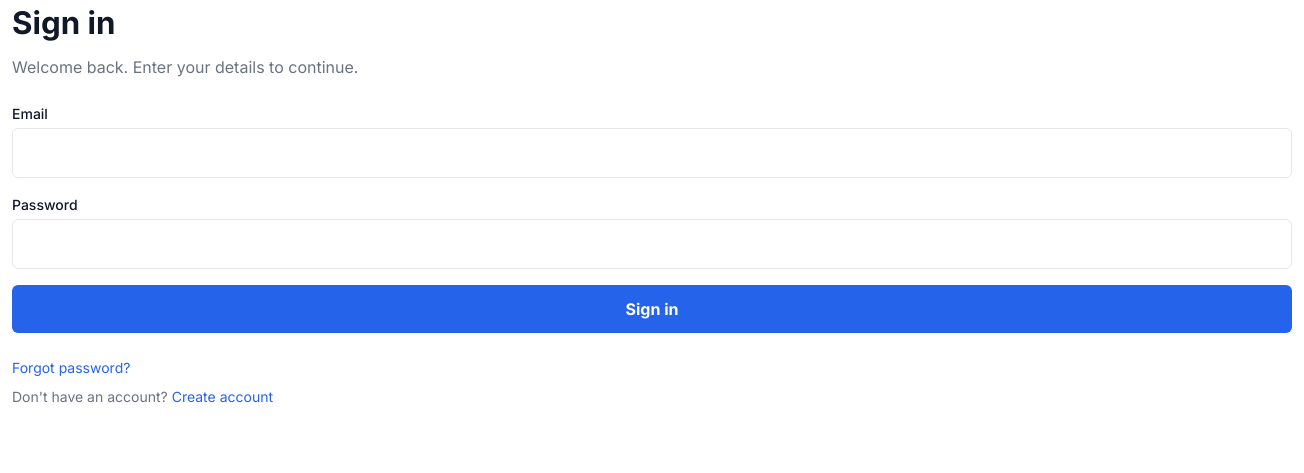
Scenario: SignInForm › shows an inline error and stays on the page for bad credentials
The image size is (1304, 473).
Type "a@b.com" into the field labelled "Email" at (652, 153), box 12,128 -> 1292,178
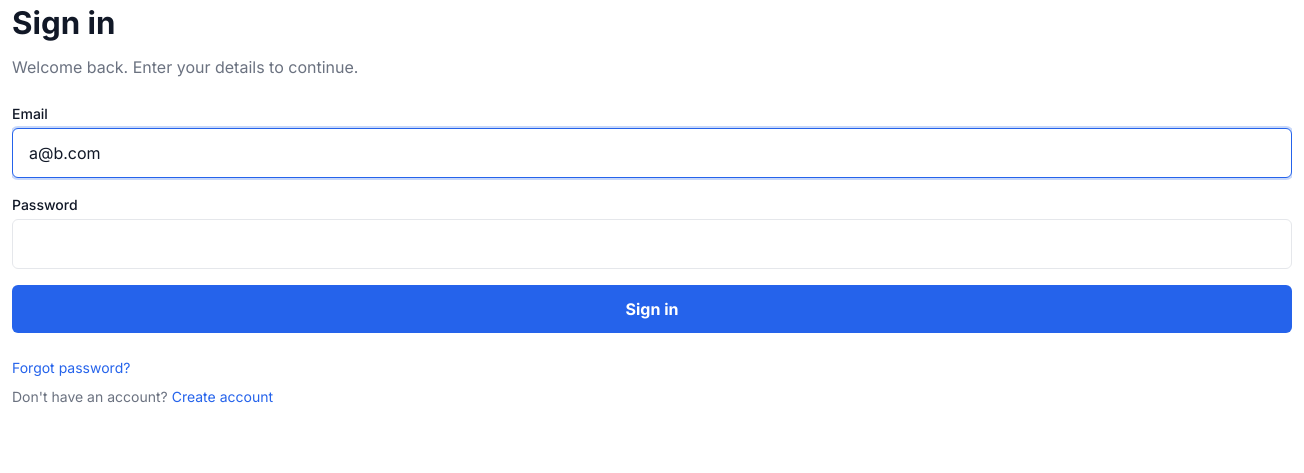
Type "wrongpass" into the password field labelled "Password" at (652, 244), box 12,219 -> 1292,269
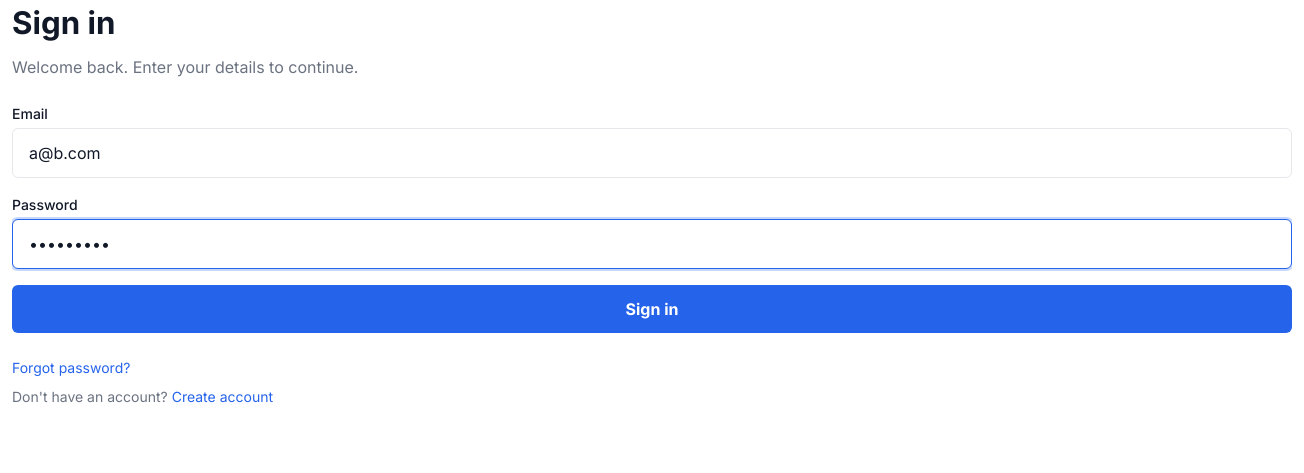
Click the button "Sign in" at (652, 309), box 12,285 -> 1292,333
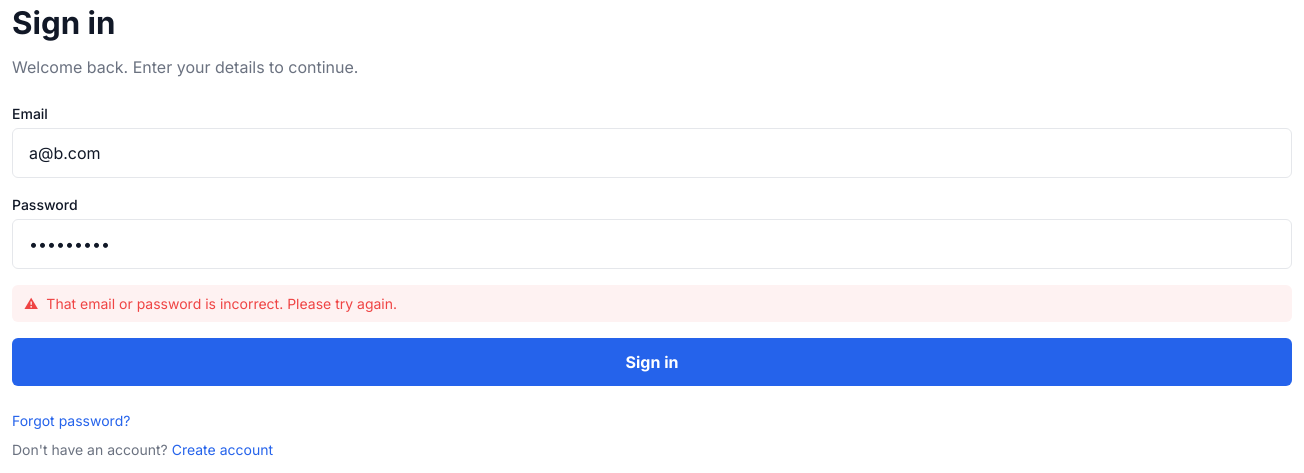
Expected: the message shows "incorrect", 46,295 -> 397,312
